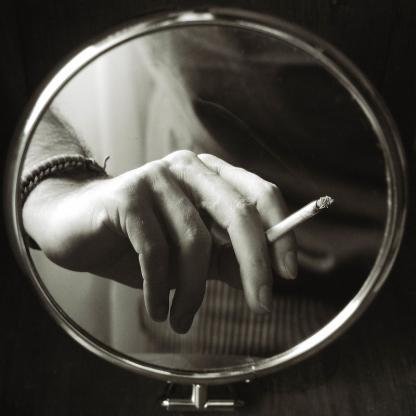smoking: (260, 196, 333, 244)
